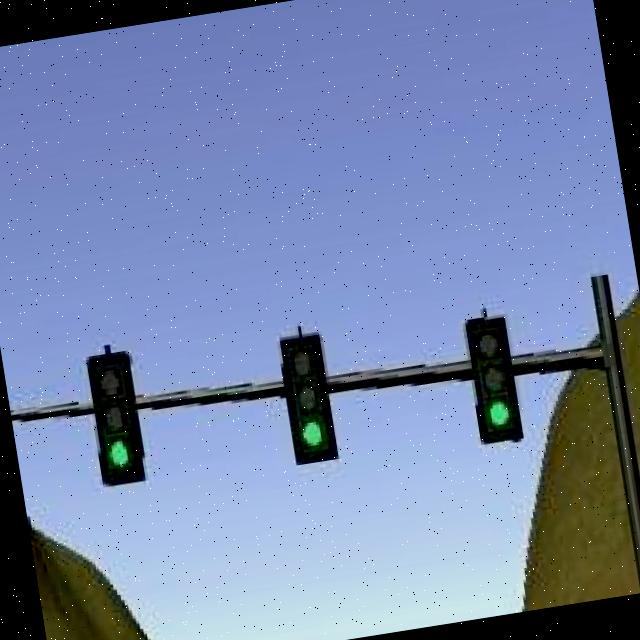Zielone swiatlo: (86, 348, 146, 488), (280, 332, 342, 464), (466, 317, 524, 448)
